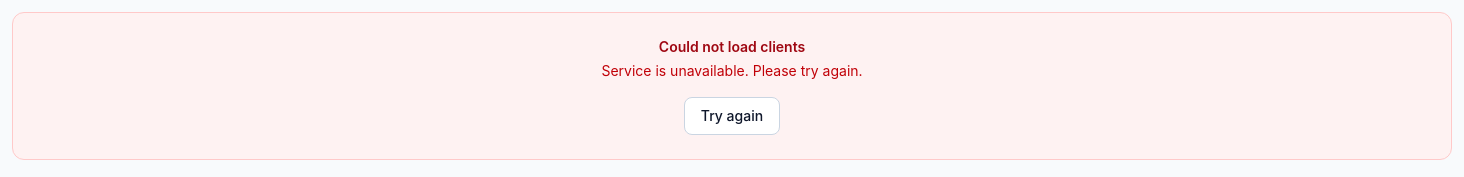
ClientPicker › loads the clients on retry
What coordinates should you click on to do the following:
click the button "Try again"
I would click on:
 (732, 116)
Its box is 684,97 -> 780,135.
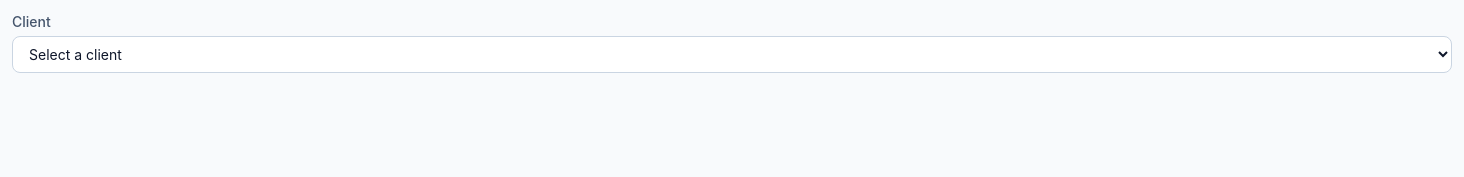
Now the message "Could not load clients Service is unavailable. Please try again. Try again" is gone
